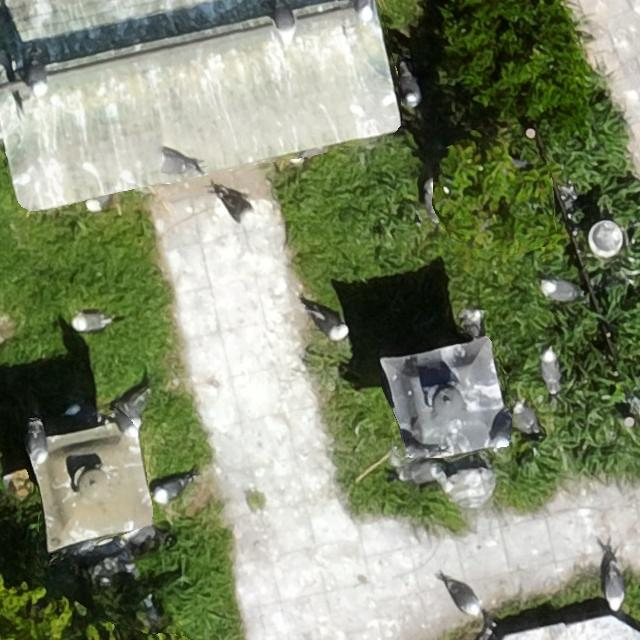umineko: (210, 178, 256, 228), (22, 417, 50, 465), (110, 402, 145, 438), (489, 400, 515, 446), (508, 396, 538, 435), (449, 582, 481, 614), (317, 310, 348, 338), (402, 463, 442, 483), (541, 350, 559, 389), (542, 281, 576, 301), (155, 478, 185, 500), (606, 571, 624, 607), (402, 70, 419, 106), (75, 312, 107, 330), (477, 626, 492, 639)
